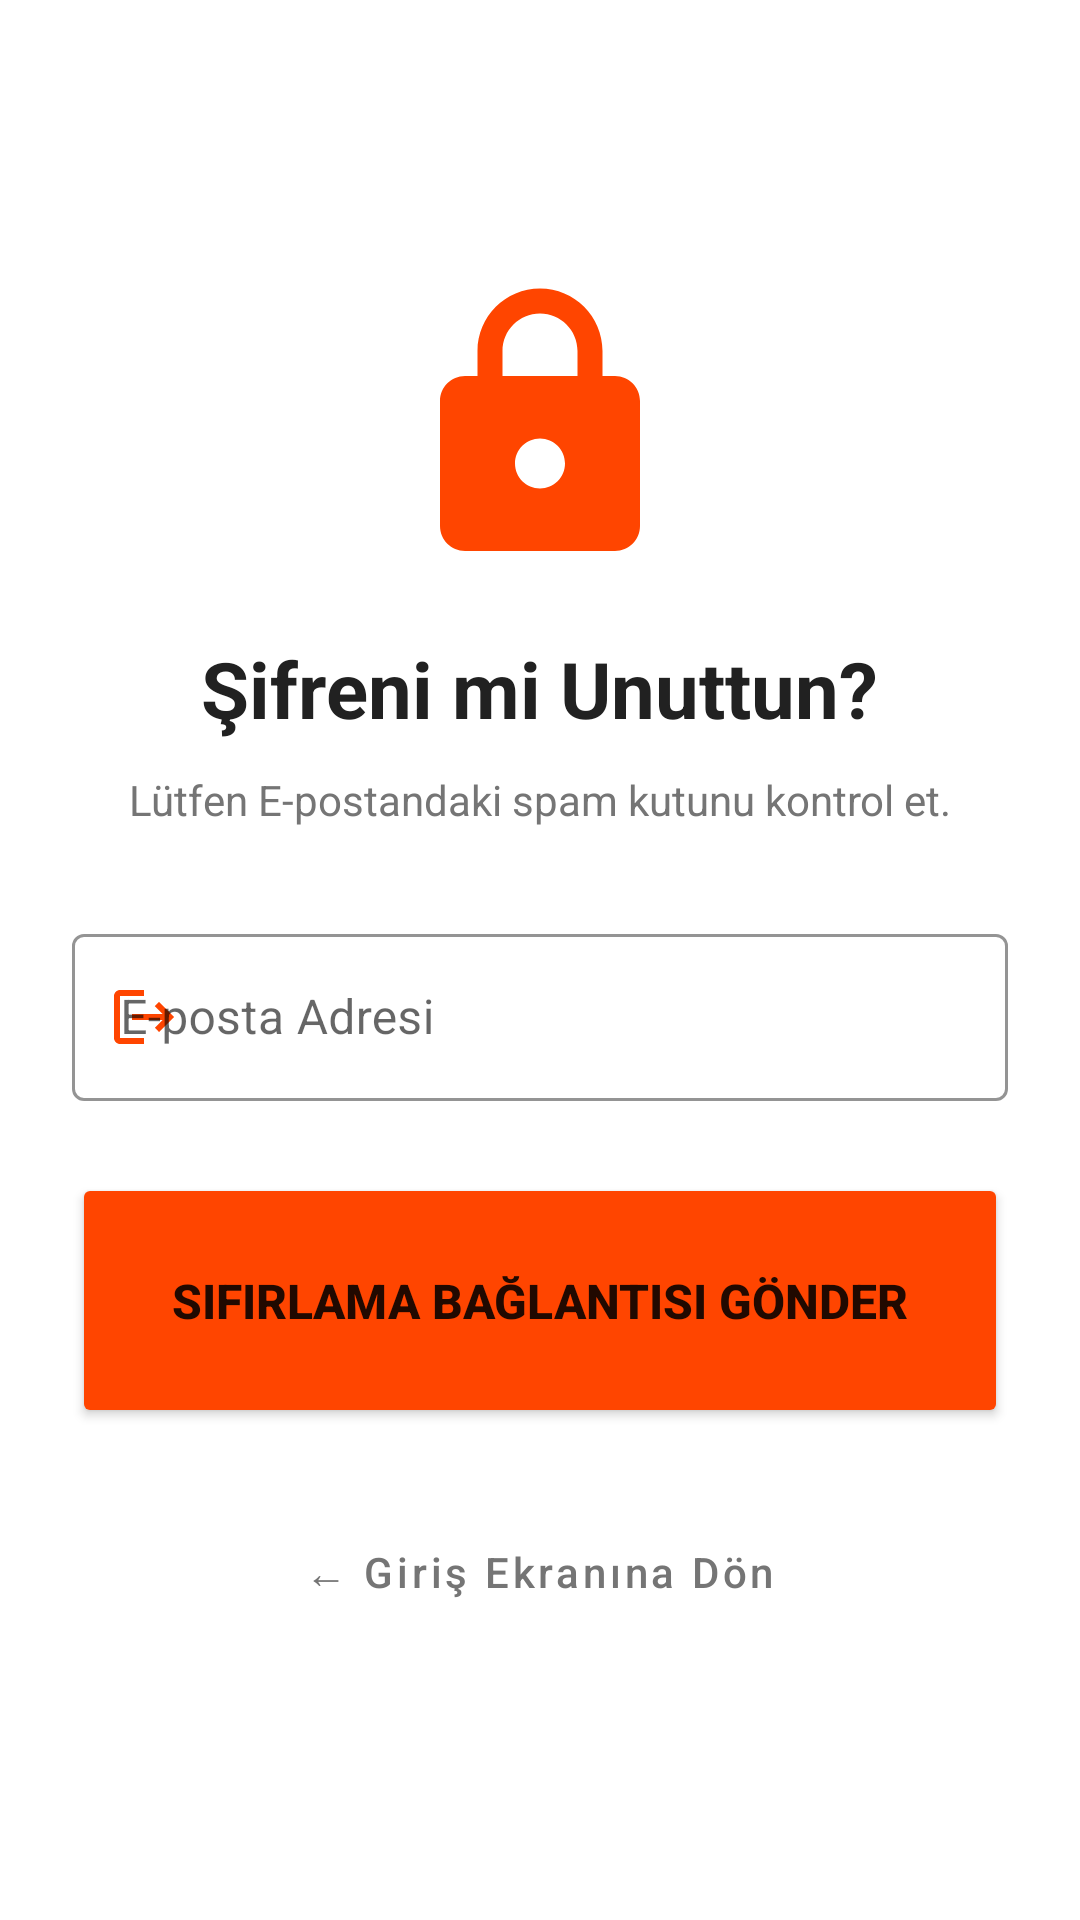

Icon click points for this 1080px×1920px phone screenshot, format point (x, y):
lock reset: point (540, 419)
